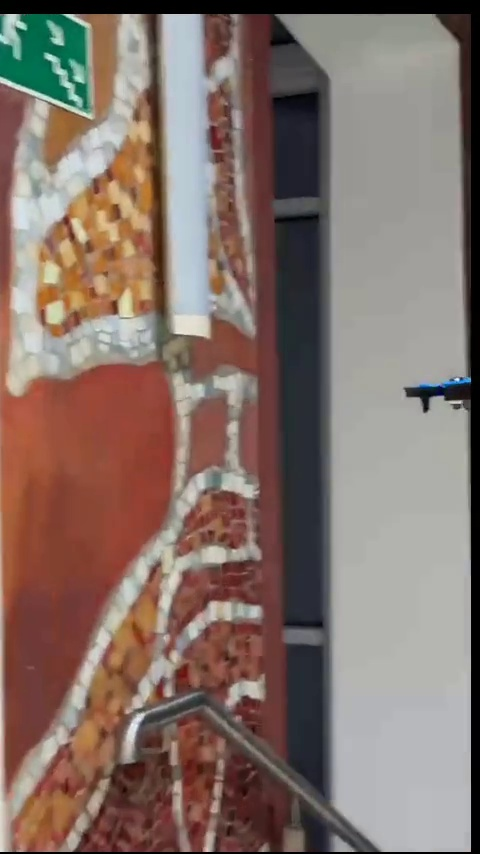drone: (409, 375, 475, 415)
